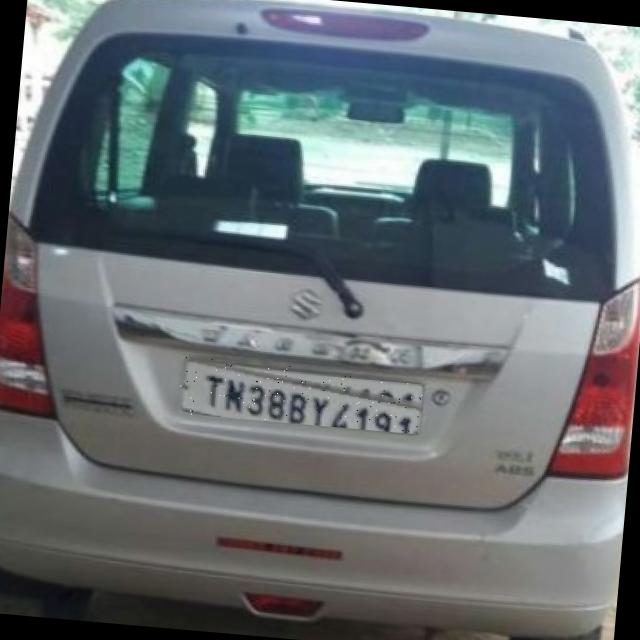Plate: (179, 357, 425, 435)
